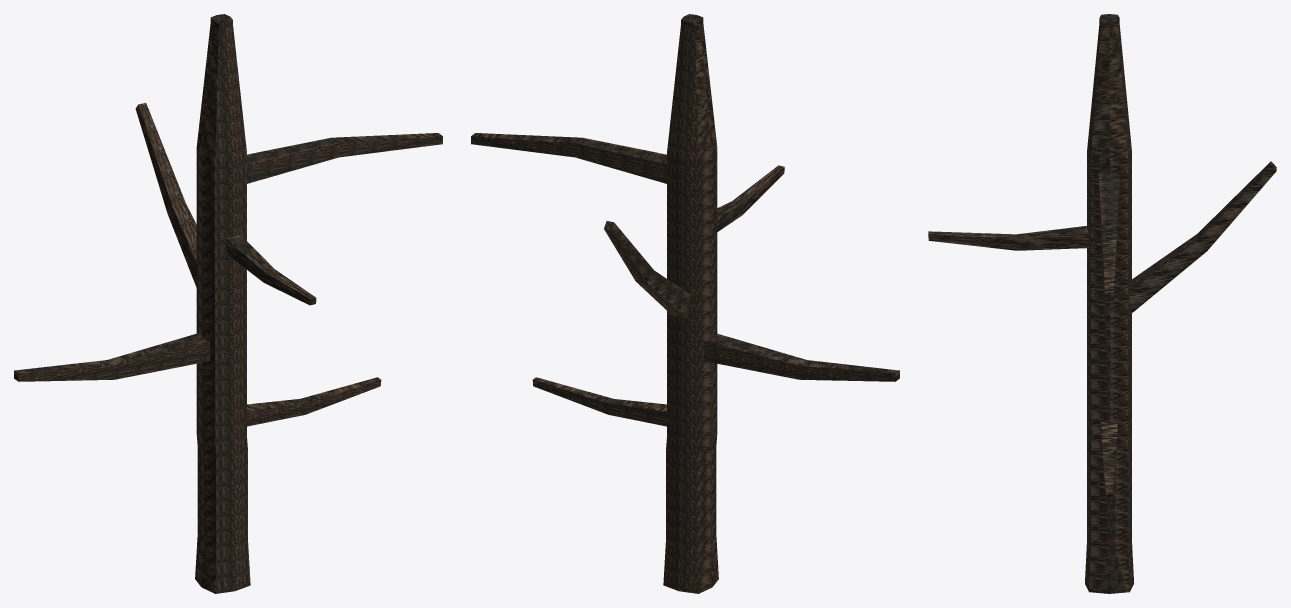
Rendered from Tree_FOR_NOW.fbx.
3 renders of one model, left to right at view 1: azimuth 30°, elevation 25°; view 2: azimuth 150°, elevation 25°; view 3: azimuth 270°, elevation 25°, orthographic.
Parts seen in each view (by area): view 1: Cube.004; view 2: Cube.004; view 3: Cube.004.
Boxes of the visible parts, x1,y1,x2,y2 form: Cube.004: [14, 14, 442, 593]; Cube.004: [471, 14, 899, 593]; Cube.004: [928, 14, 1276, 593].
Bounding box in the file's own units: 2649 × 3363 × 1881.
Materials: 1 (1 with a texture image).
